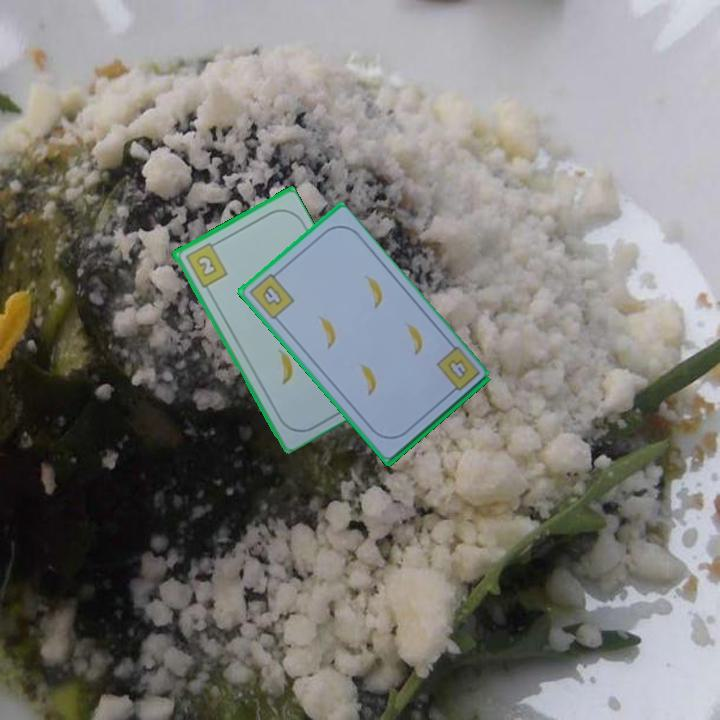2b: (182, 238, 230, 290)
4b: (245, 267, 297, 322), (444, 356, 471, 383)
